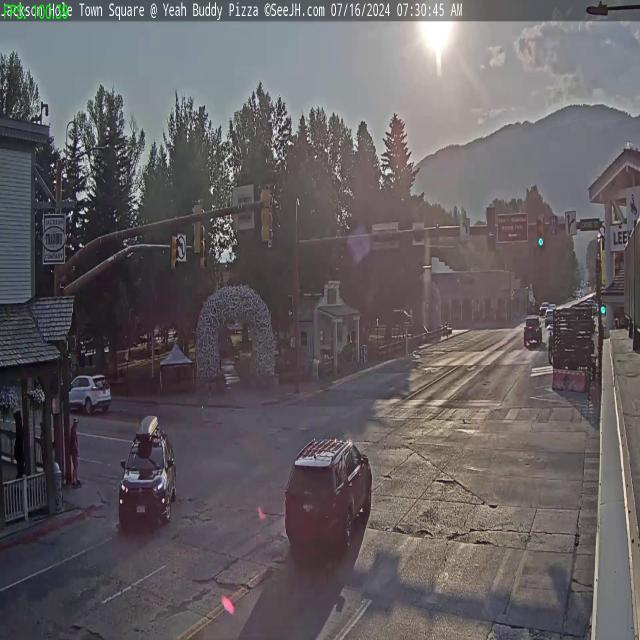person: (68, 417, 83, 489)
suv: (279, 433, 376, 567), (116, 426, 180, 532), (66, 373, 110, 418)
traffic light: (260, 184, 273, 245), (190, 199, 203, 256), (486, 207, 497, 252), (170, 230, 178, 272), (537, 215, 545, 248)
